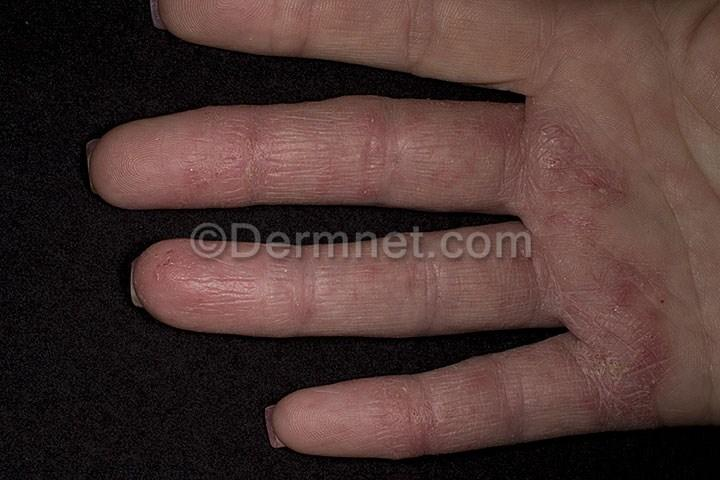Eczema: (521, 95, 634, 222), (427, 101, 521, 177), (198, 112, 297, 182), (332, 110, 404, 189), (175, 262, 271, 311)
